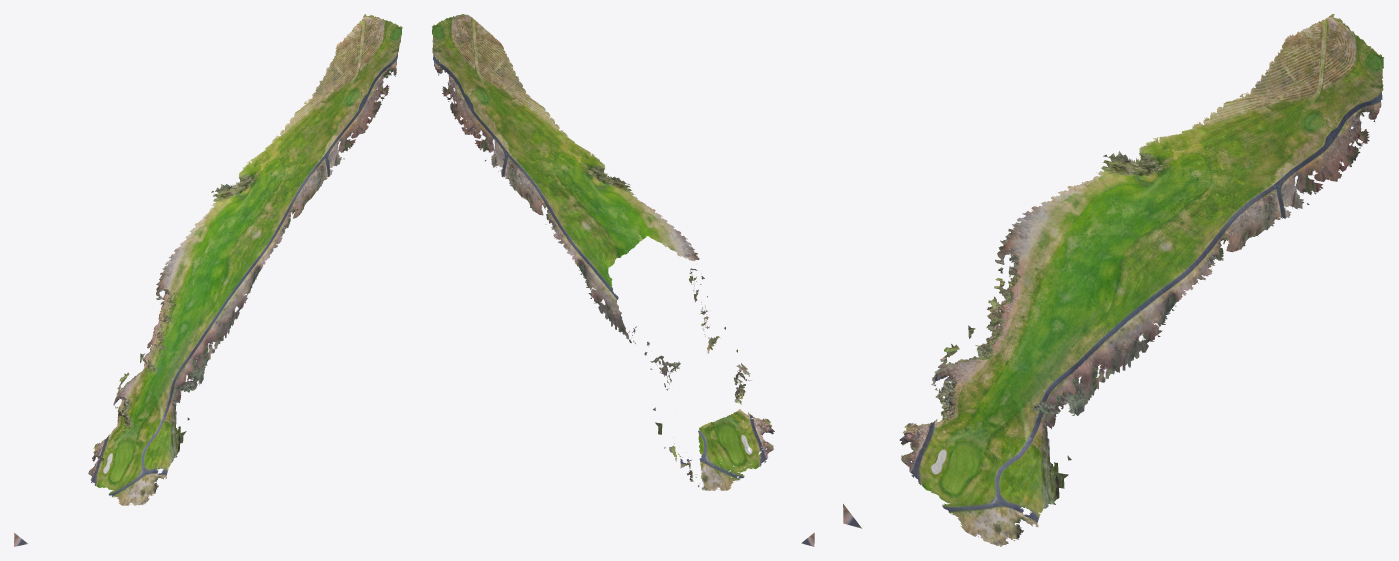
3 renders of one model, left to right at view 1: azimuth 30°, elevation 25°; view 2: azimuth 150°, elevation 25°; view 3: azimuth 330°, elevation 25°, orthographic. The views are drawn at different scales.
Size of the model in its own units: 336 by 372 by 34.79.
Materials: 9 (9 with a texture image).
